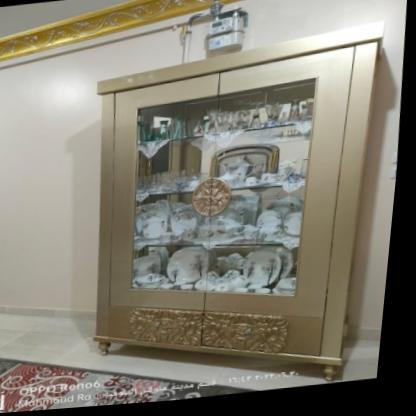Cupboard: (61, 24, 400, 411)
